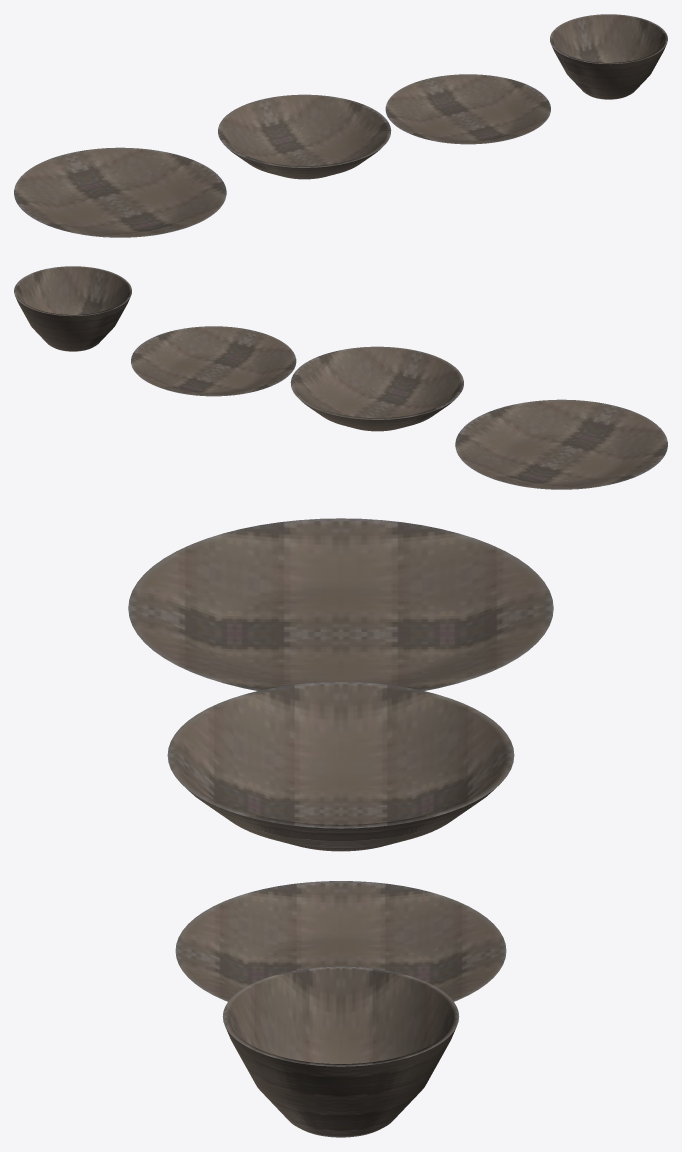
Rendered from RAY-03.glb.
3 renders of one model, top to bottom at view 1: azimuth 30°, elevation 25°; view 2: azimuth 150°, elevation 25°; view 3: azimuth 270°, elevation 25°, orthographic. The views are drawn at different scales.
Size of the model in its own units: 0.926 by 0.07 by 0.27.
8 materials, 8 textured.
